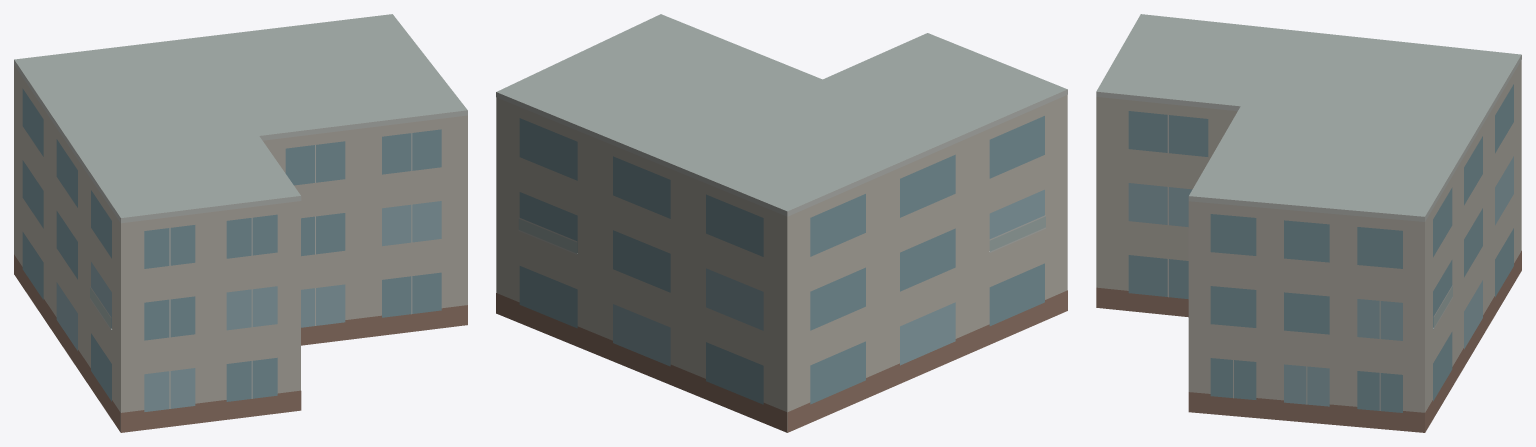
Rendered from survey-upis-32514340.glb.
3 views of the same model, side by side, from view 1: azimuth 30°, elevation 25°; view 2: azimuth 150°, elevation 25°; view 3: azimuth 270°, elevation 25° (orthographic). The views are drawn at different scales.
Parts seen in each view (by area): view 1: survey-upis-32514340.tmp; view 2: survey-upis-32514340.tmp; view 3: survey-upis-32514340.tmp.
Part boxes in pixels (left/top/right/bottom): survey-upis-32514340.tmp: left=14, top=14, right=467, bottom=432; survey-upis-32514340.tmp: left=496, top=14, right=1067, bottom=432; survey-upis-32514340.tmp: left=1096, top=14, right=1521, bottom=432.
Bounding box in the file's own units: 20.44 × 10.15 × 18.13.
